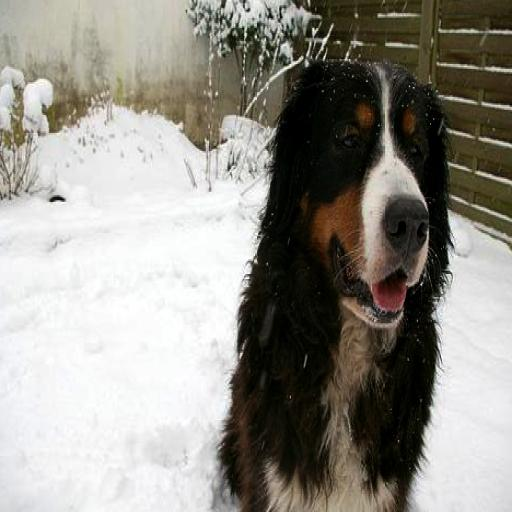dog_face: (270, 58, 449, 337)
